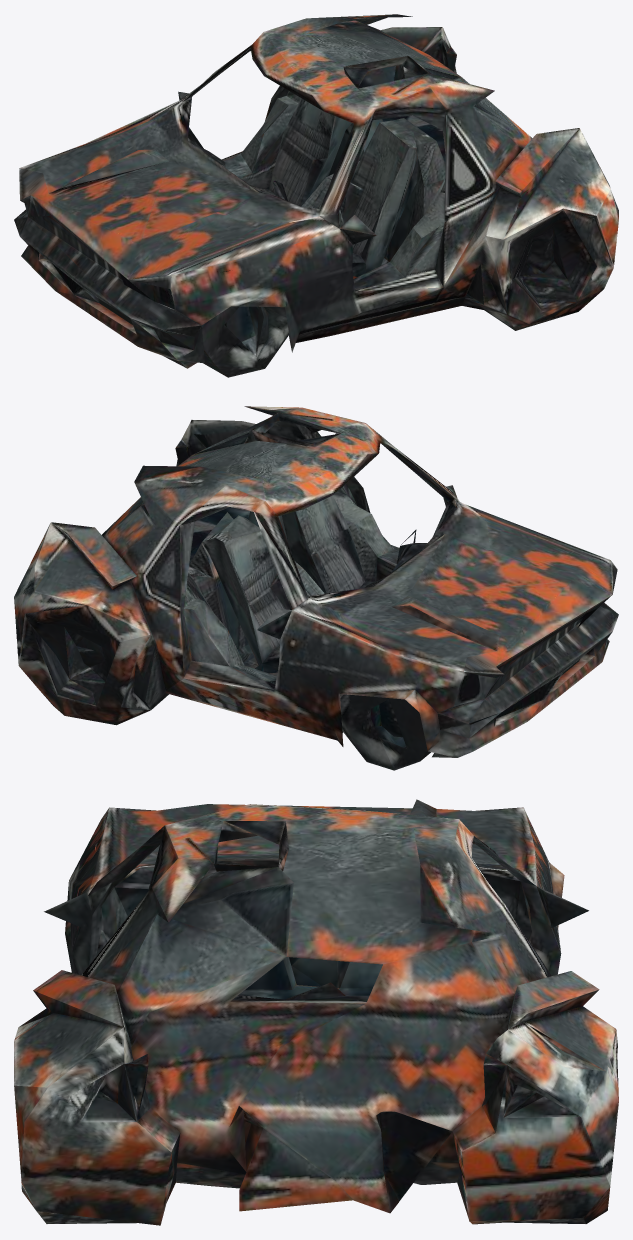
File: BS_Map_WreckedCarShell_final.glb
The picture shows the model from 3 angles, top to bottom: view 1: azimuth 30°, elevation 25°; view 2: azimuth 150°, elevation 25°; view 3: azimuth 270°, elevation 25°; orthographic projection. The views are drawn at different scales.
Bounding box in the file's own units: 1.89 × 0.8778 × 1.56.
1 material, 1 textured.
